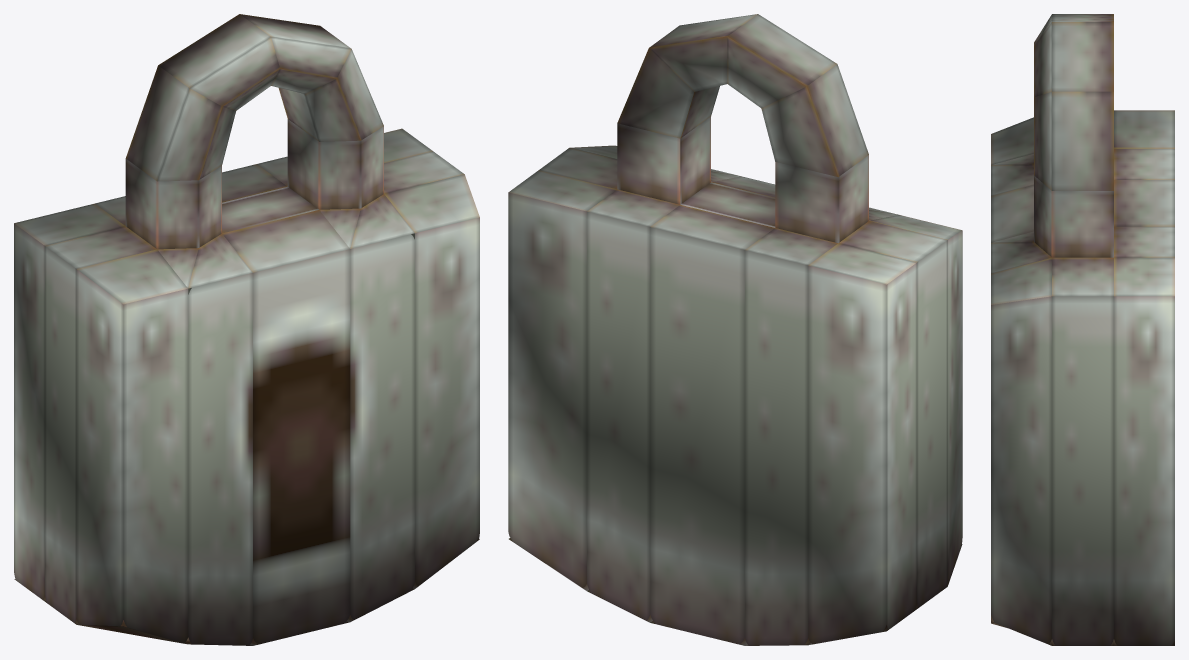
The picture shows the model from 3 angles, left to right: view 1: azimuth 30°, elevation 25°; view 2: azimuth 150°, elevation 25°; view 3: azimuth 270°, elevation 25°; orthographic projection. The views are drawn at different scales.
Parts seen in each view (by area): view 1: T1L4M002_18; view 2: T1L4M002_18; view 3: T1L4M002_18.
Boxes of the visible parts, left/top/right/bottom form: T1L4M002_18: left=14, top=14, right=479, bottom=645; T1L4M002_18: left=508, top=14, right=962, bottom=645; T1L4M002_18: left=991, top=14, right=1174, bottom=645.
Size of the model in its own units: 0.4795 by 0.6973 by 0.2002.
